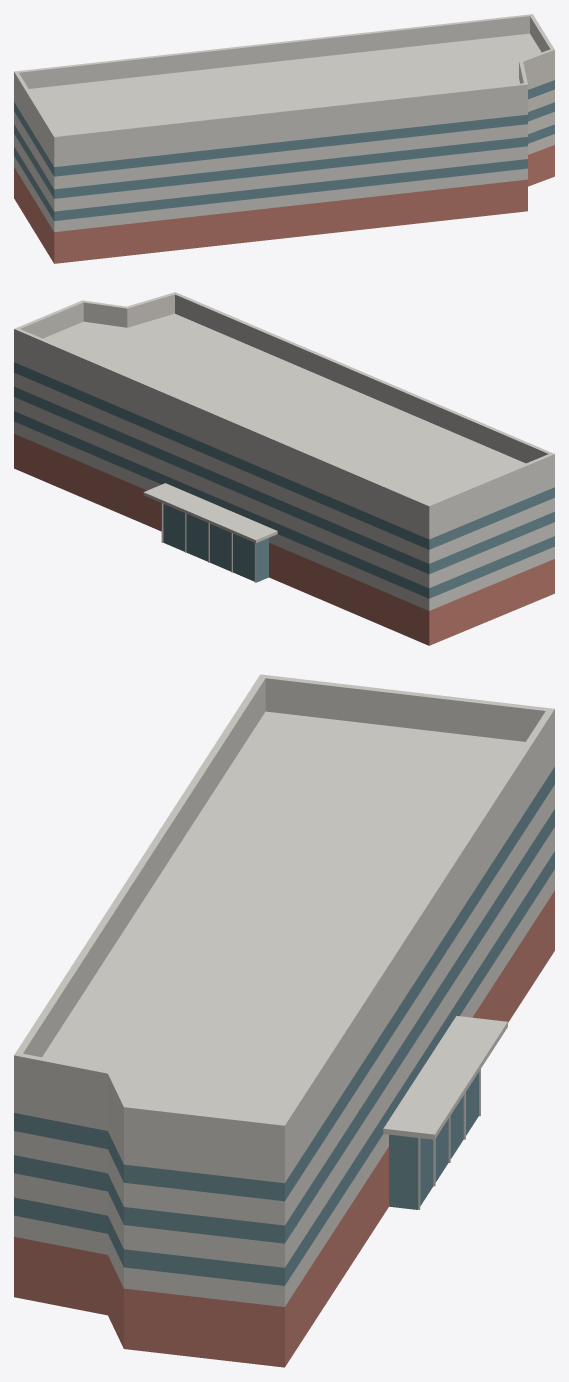
Rendered from chung.glb.
3 renders of one model, top to bottom at view 1: azimuth 30°, elevation 25°; view 2: azimuth 150°, elevation 25°; view 3: azimuth 270°, elevation 25°, orthographic. The views are drawn at different scales.
Visible parts, largest first — view 1: CSY_roof_slab, CSY_parapet, CSY_podium, CSY_storey_3, CSY_storey_6, CSY_storey_7, CSY_storey_1, CSY_storey_4, CSY_storey_0, CSY_storey_8, CSY_band, CSY_storey_5 (+1 smaller); view 2: CSY_roof_slab, CSY_parapet, CSY_podium, CSY_storey_3, CSY_storey_6, CSY_storey_4, CSY_storey_7, CSY_storey_1, CSY_storey_8, CSY_atrium, CSY_storey_0, CSY_canopy (+3 smaller); view 3: CSY_roof_slab, CSY_parapet, CSY_podium, CSY_storey_3, CSY_storey_6, CSY_storey_4, CSY_storey_7, CSY_storey_1, CSY_storey_0, CSY_canopy, CSY_storey_8, CSY_atrium (+3 smaller).
Part boxes in pixels (box(x1,y1,x2,y2)): CSY_roof_slab: box(14, 33, 554, 160); CSY_parapet: box(14, 14, 554, 154); CSY_podium: box(14, 145, 554, 263); CSY_storey_3: box(14, 112, 554, 209); CSY_storey_6: box(14, 89, 554, 187); CSY_storey_7: box(14, 80, 554, 176); CSY_storey_1: box(14, 124, 554, 220); CSY_storey_4: box(14, 102, 554, 198); CSY_storey_0: box(14, 134, 554, 228); CSY_storey_8: box(14, 73, 554, 167); CSY_band: box(14, 142, 554, 231); CSY_storey_5: box(14, 100, 554, 189); CSY_roof_slab: box(14, 313, 554, 532); CSY_parapet: box(14, 292, 554, 525); CSY_podium: box(14, 434, 554, 645); CSY_storey_3: box(14, 397, 554, 586); CSY_storey_6: box(14, 372, 554, 561); CSY_storey_4: box(14, 386, 554, 574); CSY_storey_7: box(14, 362, 554, 549); CSY_storey_1: box(14, 411, 554, 598); CSY_storey_8: box(14, 355, 554, 539); CSY_atrium: box(163, 504, 268, 582); CSY_storey_0: box(14, 421, 554, 607); CSY_canopy: box(143, 483, 277, 542); CSY_roof_slab: box(14, 711, 554, 1170); CSY_parapet: box(14, 674, 554, 1158); CSY_podium: box(14, 890, 554, 1367); CSY_storey_3: box(14, 827, 554, 1264); CSY_storey_6: box(14, 785, 554, 1222); CSY_storey_4: box(14, 809, 554, 1243); CSY_storey_7: box(14, 767, 554, 1201); CSY_storey_1: box(14, 851, 554, 1285); CSY_storey_0: box(14, 869, 554, 1300); CSY_canopy: box(383, 1016, 507, 1139); CSY_storey_8: box(14, 754, 554, 1183); CSY_atrium: box(389, 1072, 478, 1209).
Bounding box in the file's own units: 64.05 × 16 × 32.44.
